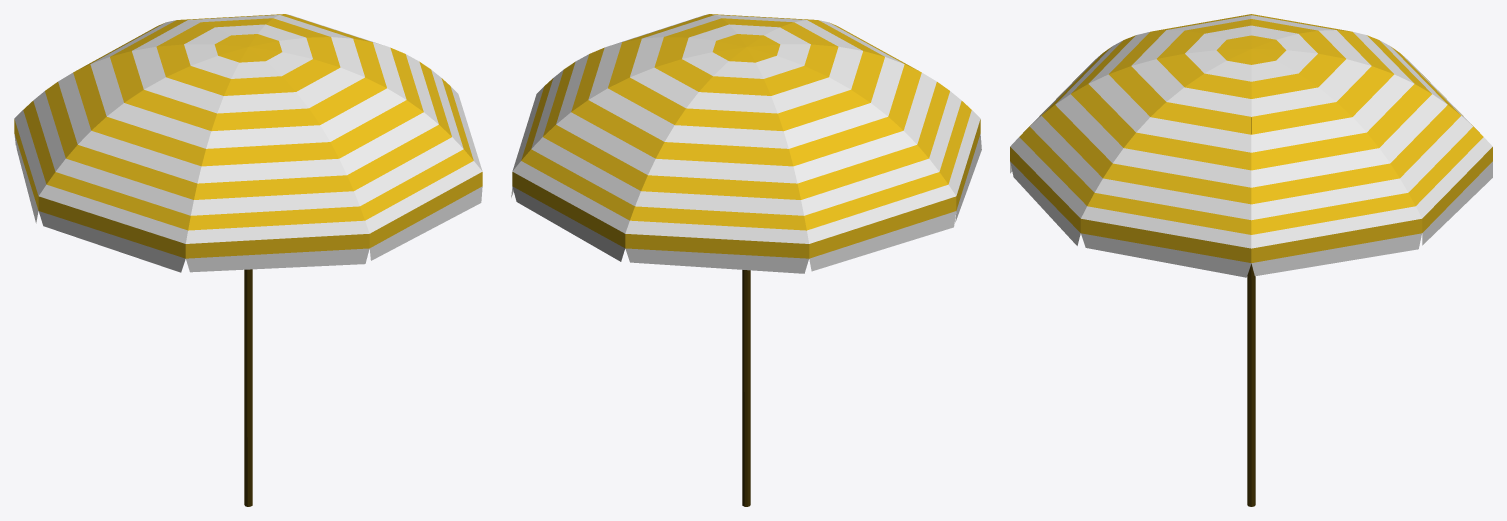
Rendered from Sombrilla.fbx.
3 renders of one model, left to right at view 1: azimuth 30°, elevation 25°; view 2: azimuth 150°, elevation 25°; view 3: azimuth 270°, elevation 25°, orthographic.
Visible parts, largest first — view 1: BezierCurve.001, Cylinder; view 2: BezierCurve.001, Cylinder; view 3: BezierCurve.001, Cylinder.
Part boxes in pixels (x1,y1,x2,y2): BezierCurve.001: (14,14,482,272); Cylinder: (244,269,252,506); BezierCurve.001: (511,14,981,273); Cylinder: (742,270,750,506); BezierCurve.001: (1010,14,1492,277); Cylinder: (1247,117,1255,506).
Size of the model in its own units: 300 by 313 by 300.
